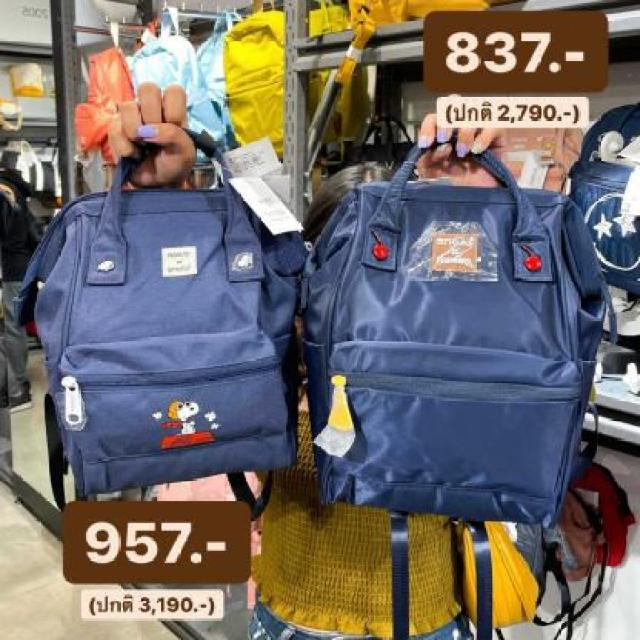Bag: (274, 134, 618, 546), (12, 121, 319, 502)
